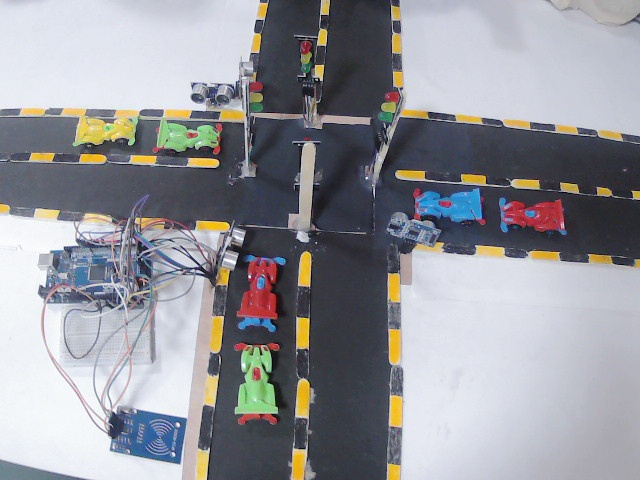car: (498, 194, 602, 256), (219, 346, 292, 424), (411, 183, 492, 240), (148, 113, 234, 166), (239, 248, 289, 334), (64, 114, 151, 154)
traffic_light: (239, 75, 278, 141), (378, 83, 400, 154), (292, 32, 321, 85), (300, 128, 325, 185)
uno_breadboard: (36, 237, 163, 363), (106, 405, 179, 476), (381, 210, 449, 254), (222, 219, 256, 268), (231, 48, 271, 87), (185, 77, 240, 104)
